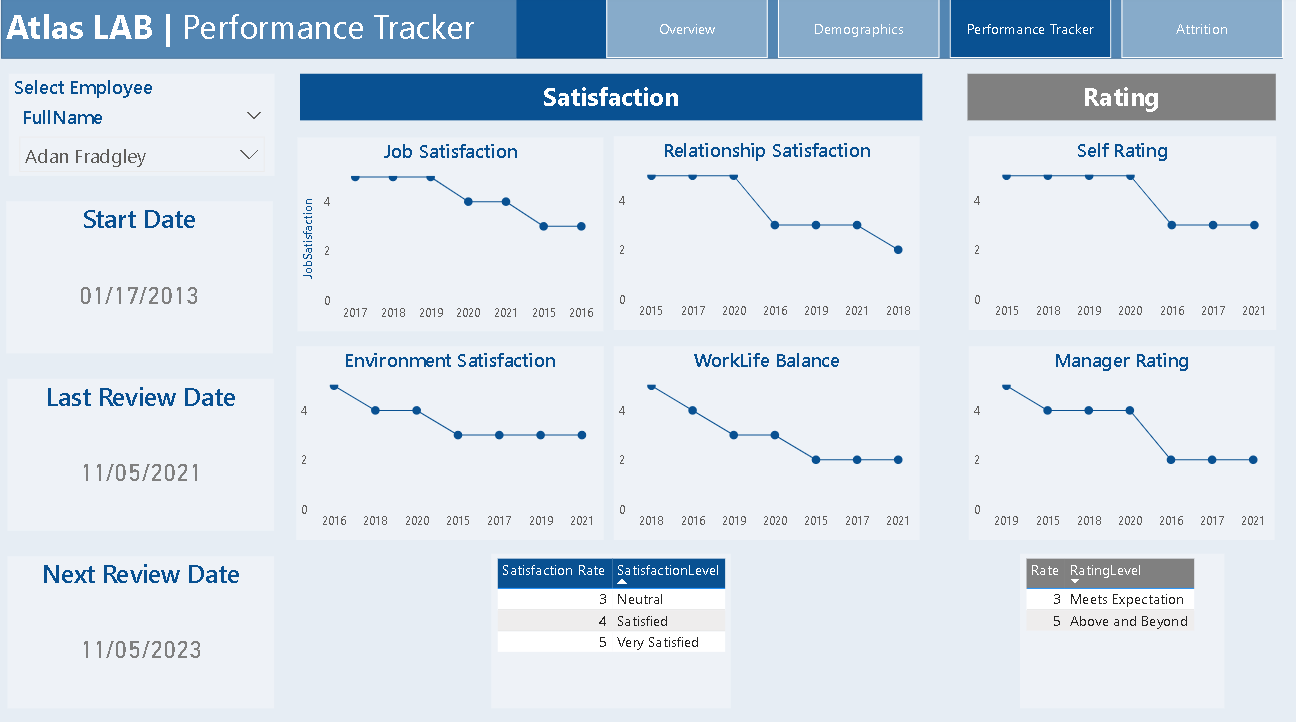

What the dashboard file says about the page in this screenshot:
{"tool":"powerbi","page":{"name":"Performance Tracker","canvas":[1280,720],"ordinal":2},"visuals":[{"type":"slicer","title":"Select Employee","fields":{"Values":["DimEmployee.FullName"]},"box":[18.6,77.1,260,100],"z":0},{"type":"card","title":"Start Date","fields":{"Values":["DimEmployee.HireDate"]},"box":[15.9,201.8,260.5,149.2],"z":1000},{"type":"lineChart","title":"Environment Satisfaction","fields":{"Category":["DimDate.Year"],"Y":["_Measures.EnvironmentSatisfaction"]},"box":[299.6,343.3,300.8,189.5],"z":2000},{"type":"lineChart","title":"Job Satisfaction","fields":{"Category":["DimDate.Year"],"Y":["_Measures.JobSatisfaction"]},"box":[300.8,138.8,299.6,189.5],"z":3000},{"type":"lineChart","title":"Relationship Satisfaction","fields":{"Category":["DimDate.Year"],"Y":["_Measures.RelationshipSatisfaction"]},"box":[610.2,138.6,299.6,189.5],"z":4000},{"type":"lineChart","title":"WorkLife Balance","fields":{"Category":["DimDate.Year"],"Y":["_Measures.WorkLifeBalance"]},"box":[610.2,343.2,299.6,189.5],"z":5000},{"type":"lineChart","title":"Self Rating","fields":{"Category":["DimDate.Year"],"Y":["_Measures.SelfRating"]},"box":[957.2,138.6,300.8,189.5],"z":6000},{"type":"lineChart","title":"Manager Rating","fields":{"Category":["DimDate.Year"],"Y":["_Measures.ManagerRating"]},"box":[957.8,343.2,299.6,189.5],"z":7000},{"type":"tableEx","fields":{"Values":["DimRatingLevel.RatingID","DimRatingLevel.RatingLevel"]},"box":[1007.4,547.1,200,151.4],"z":8000},{"type":"tableEx","fields":{"Values":["DimSatisfiedLevel.SatisfactionID","DimSatisfiedLevel.SatisfactionLevel"]},"box":[490.3,547.1,234.3,151.4],"z":9000},{"type":"textbox","box":[303.1,77.1,608.6,45.7],"z":10000},{"type":"textbox","box":[956.7,77.1,301.4,45.7],"z":11000},{"type":"card","title":"Last Review Date","fields":{"Values":["_Measures.LastReviewDate"]},"box":[17.1,375.6,261.2,148.9],"z":12000},{"type":"card","title":"Next Review Date","fields":{"Values":["_Measures.NextReviewDate"]},"box":[17.1,549.2,261.2,148.9],"z":13000},{"type":"shape","box":[11.5,3.7,1253.4,58.7],"z":14000},{"type":"textbox","box":[11.2,3.8,504,58.8],"z":15000},{"type":"pageNavigator","box":[602.4,4,663.1,58],"z":16000}]}

Visuals, with their boxes in screenshot pixels (x1, y1, x2, y2), scaled from the page's 1280x720 canvas onto the 1296x722 screenshot:
"Select Employee" slicer: {"x1": 19, "y1": 77, "x2": 282, "y2": 178}
"Start Date" card: {"x1": 16, "y1": 202, "x2": 280, "y2": 352}
"Environment Satisfaction" lineChart: {"x1": 303, "y1": 344, "x2": 608, "y2": 534}
"Job Satisfaction" lineChart: {"x1": 305, "y1": 139, "x2": 608, "y2": 329}
"Relationship Satisfaction" lineChart: {"x1": 618, "y1": 139, "x2": 921, "y2": 329}
"WorkLife Balance" lineChart: {"x1": 618, "y1": 344, "x2": 921, "y2": 534}
"Self Rating" lineChart: {"x1": 969, "y1": 139, "x2": 1274, "y2": 329}
"Manager Rating" lineChart: {"x1": 970, "y1": 344, "x2": 1273, "y2": 534}
tableEx - DimRatingLevel.RatingID x DimRatingLevel.RatingLevel: {"x1": 1020, "y1": 549, "x2": 1222, "y2": 700}
tableEx - DimSatisfiedLevel.SatisfactionID x DimSatisfiedLevel.SatisfactionLevel: {"x1": 496, "y1": 549, "x2": 734, "y2": 700}
textbox: {"x1": 307, "y1": 77, "x2": 923, "y2": 123}
textbox: {"x1": 969, "y1": 77, "x2": 1274, "y2": 123}
"Last Review Date" card: {"x1": 17, "y1": 377, "x2": 282, "y2": 526}
"Next Review Date" card: {"x1": 17, "y1": 551, "x2": 282, "y2": 700}
shape: {"x1": 12, "y1": 4, "x2": 1281, "y2": 63}
textbox: {"x1": 11, "y1": 4, "x2": 522, "y2": 63}
pageNavigator: {"x1": 610, "y1": 4, "x2": 1281, "y2": 62}
